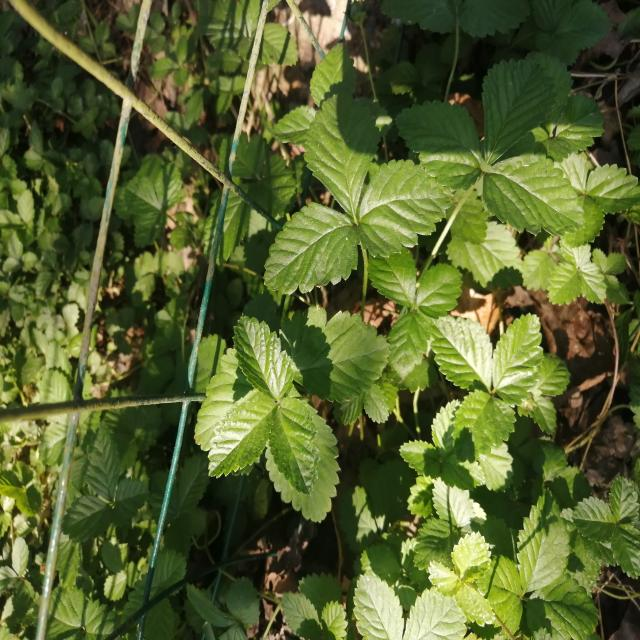Mock_strawberry: (191, 302, 380, 521), (407, 48, 592, 251), (276, 103, 443, 271), (428, 298, 549, 469)
